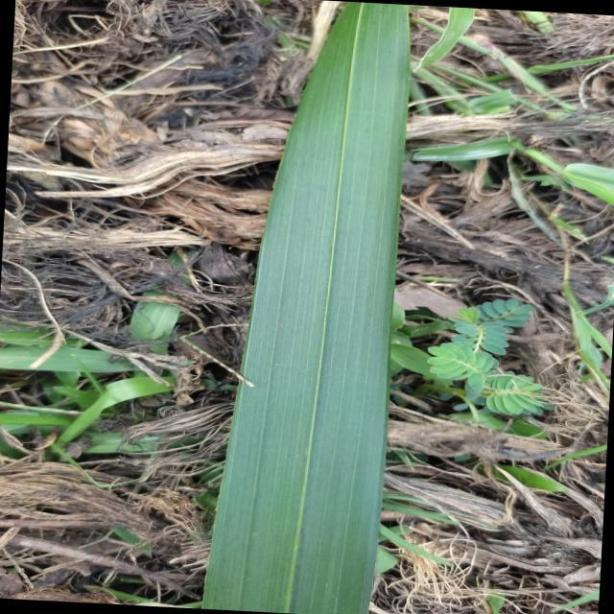Healthy: (199, 1, 412, 614)
